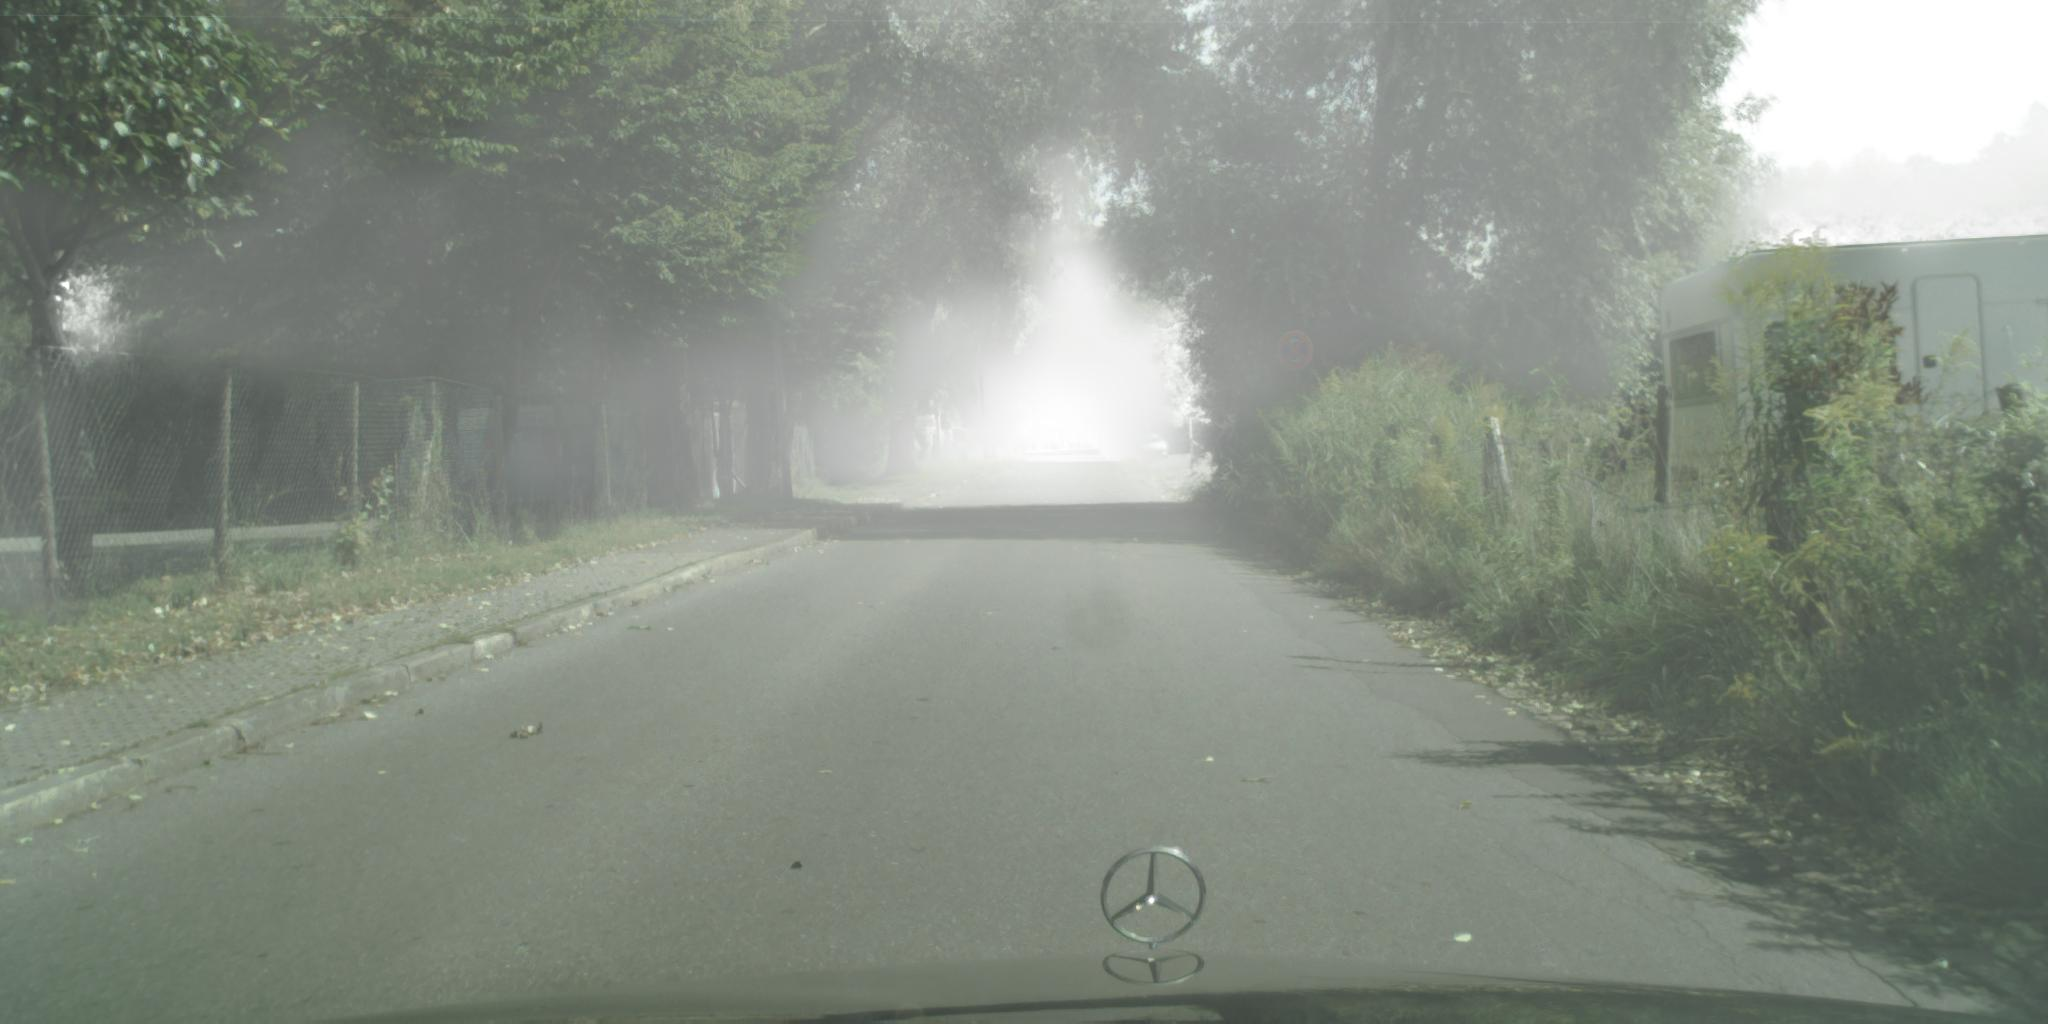car: (944, 440, 1008, 462), (1136, 435, 1170, 461)
